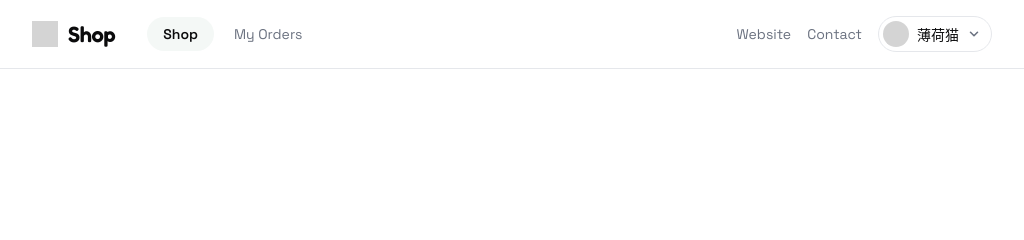
Test: 登录用户菜单 › 有头像时渲染 <img>，展开后身份区显示昵称 + 邮箱两行
What coordinates should you click on to do the following:
click the button with class "user-trigger"
I would click on:
 (935, 34)
Its box is [878, 16, 992, 52].
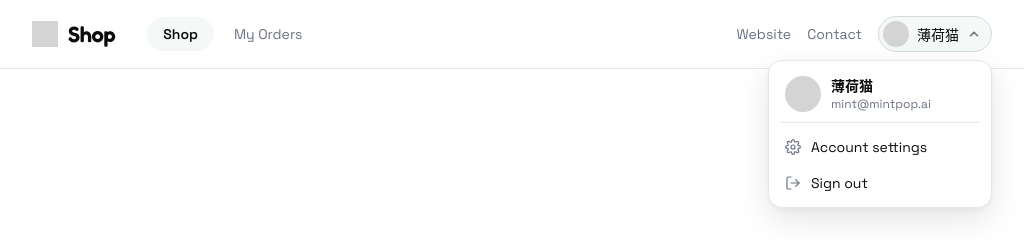
Check: the text with class "identity-name" reads "薄荷猫", box [831, 77, 873, 95]
Check: the text with class "identity-email" reads "mint@mintpop.ai", box [831, 96, 931, 112]
